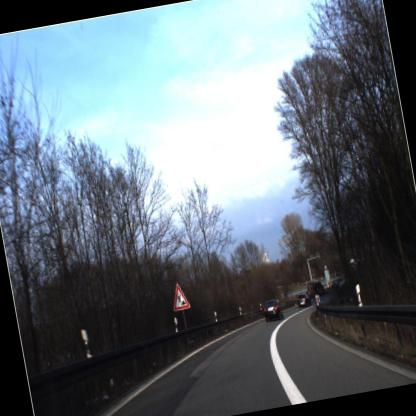danger: (161, 276, 196, 318)
